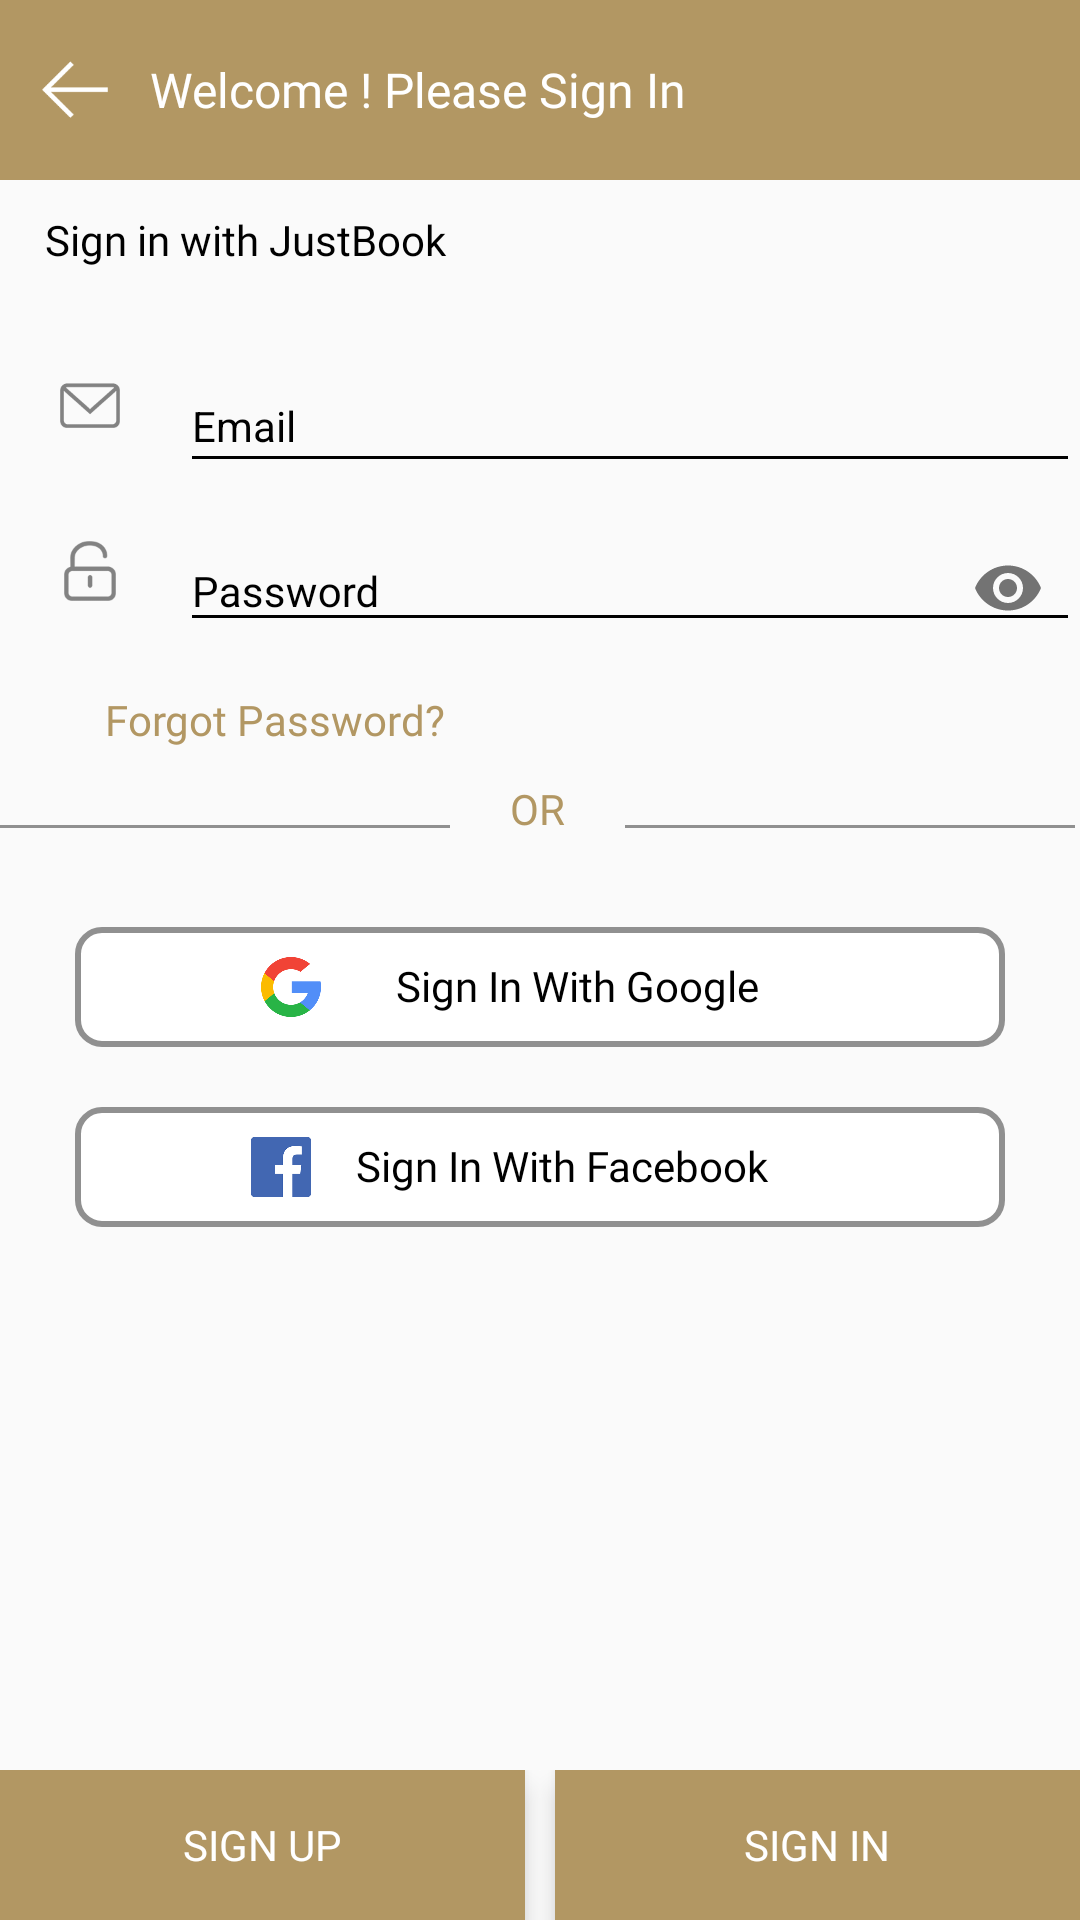

Where to tap for icons on this 1080w x 1920h app screen, as (x=x, y=y):
back: (x=75, y=89)
